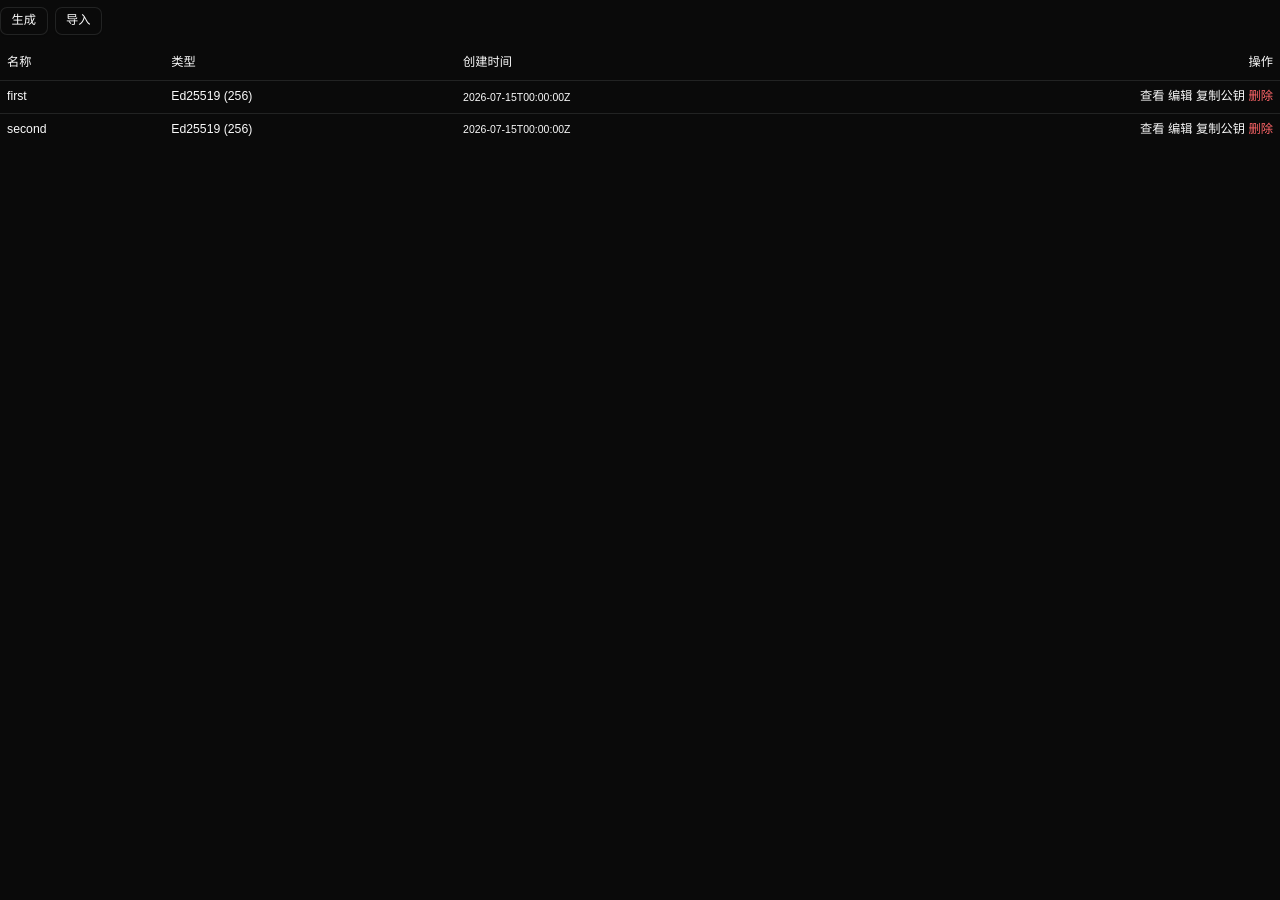
Test: KeyManager › keeps the latest material request when responses arrive out of order
Click the button with aria-label "查看 first": (1152, 97) [1140, 88, 1164, 106]
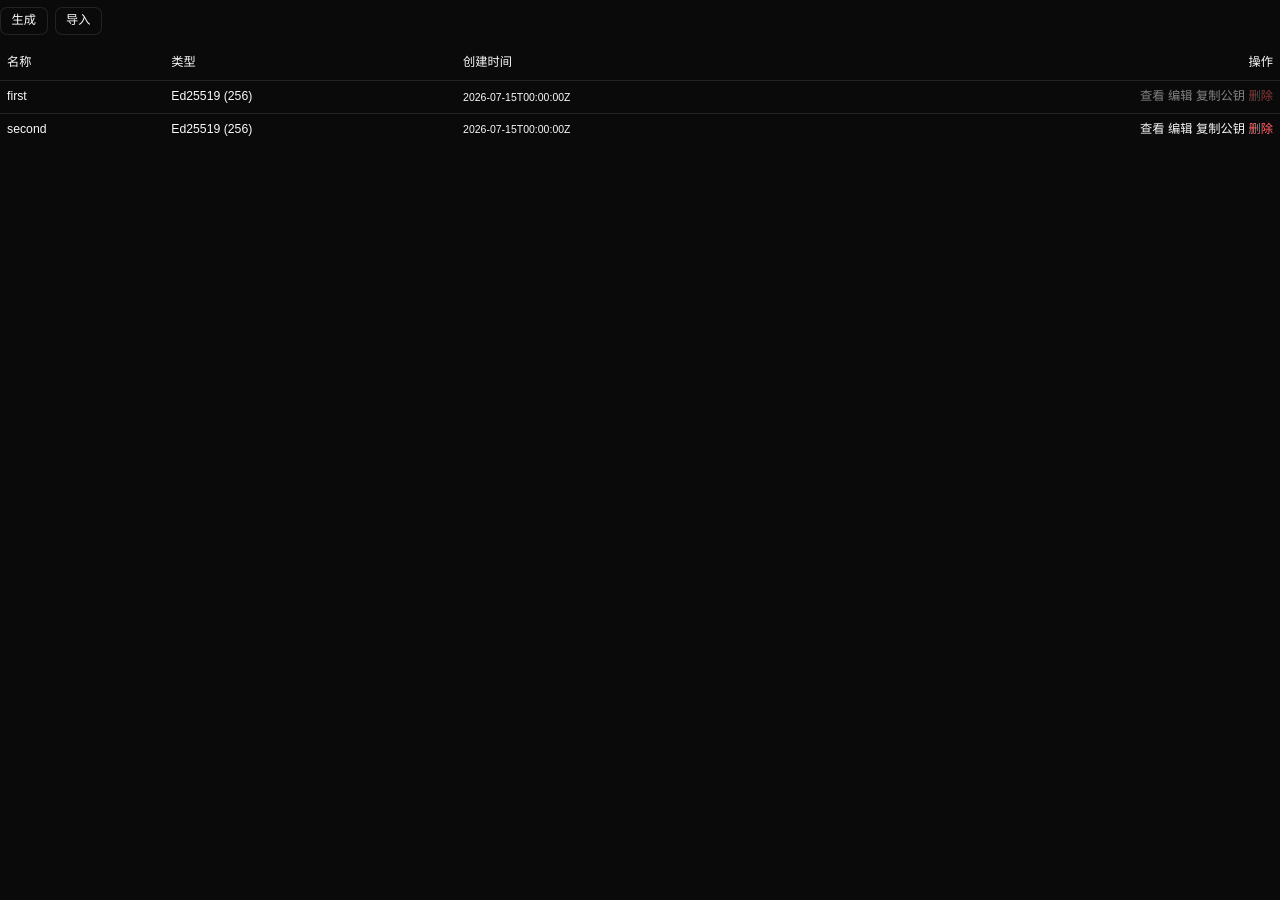
Click the button with aria-label "编辑 second": (1180, 129) [1168, 120, 1192, 138]
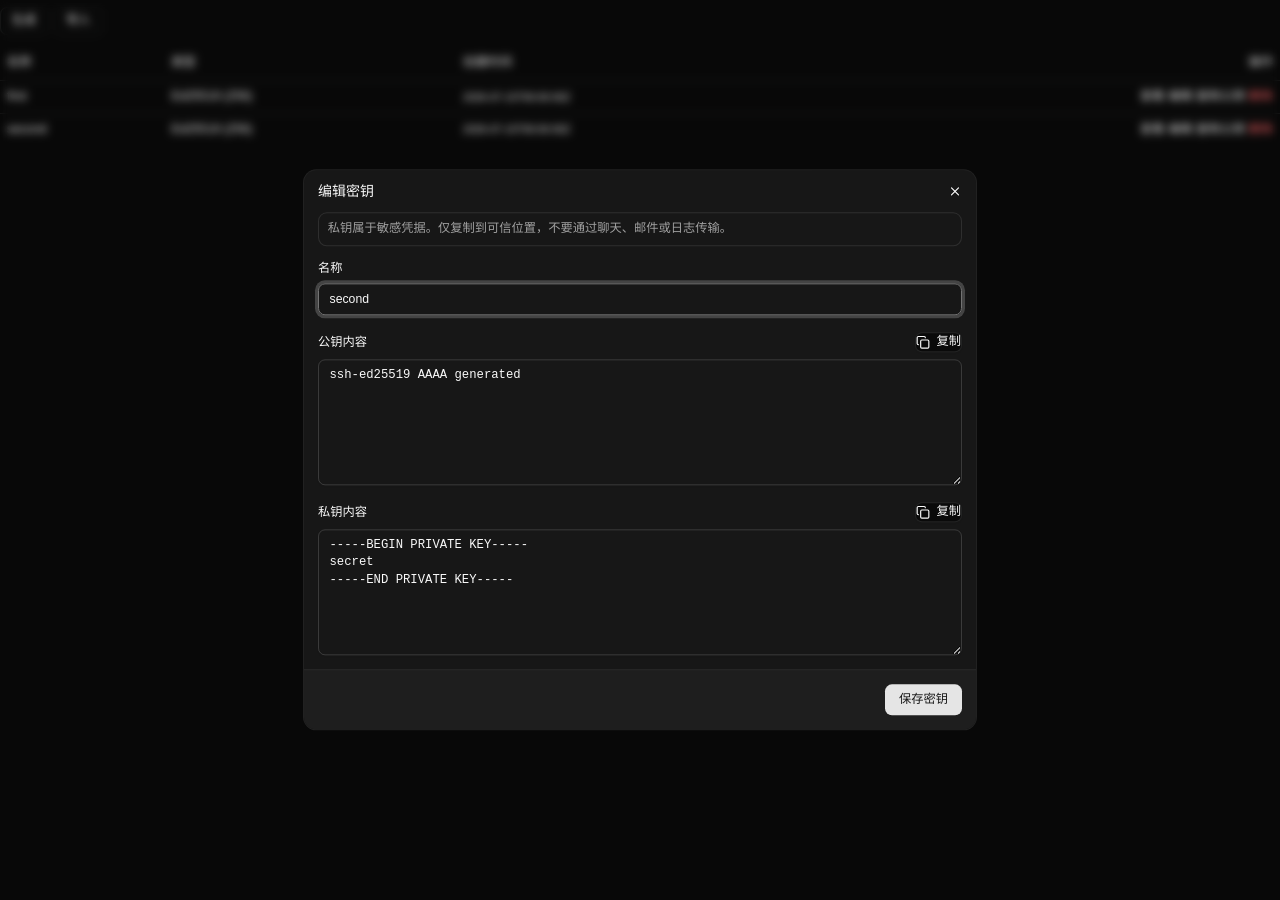
Expected: the heading "编辑密钥" is shown, [318, 183, 374, 199]
Expected: the field named "密钥名称" holds "second", [318, 284, 962, 315]
